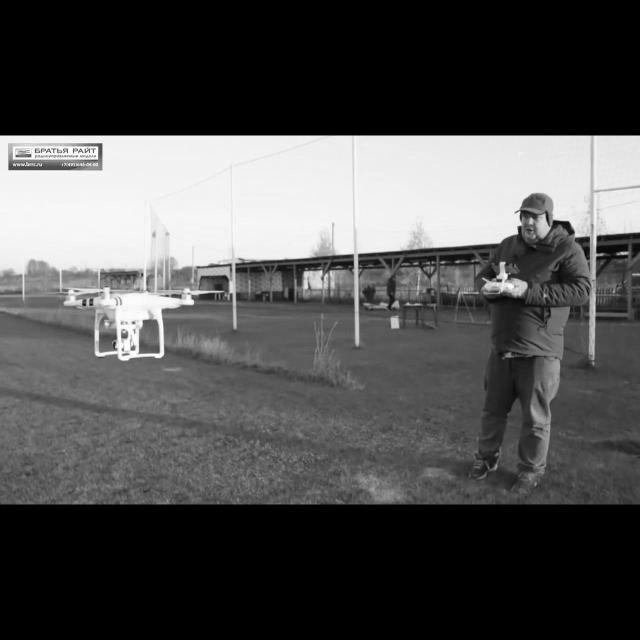Drons: (44, 284, 225, 362)
